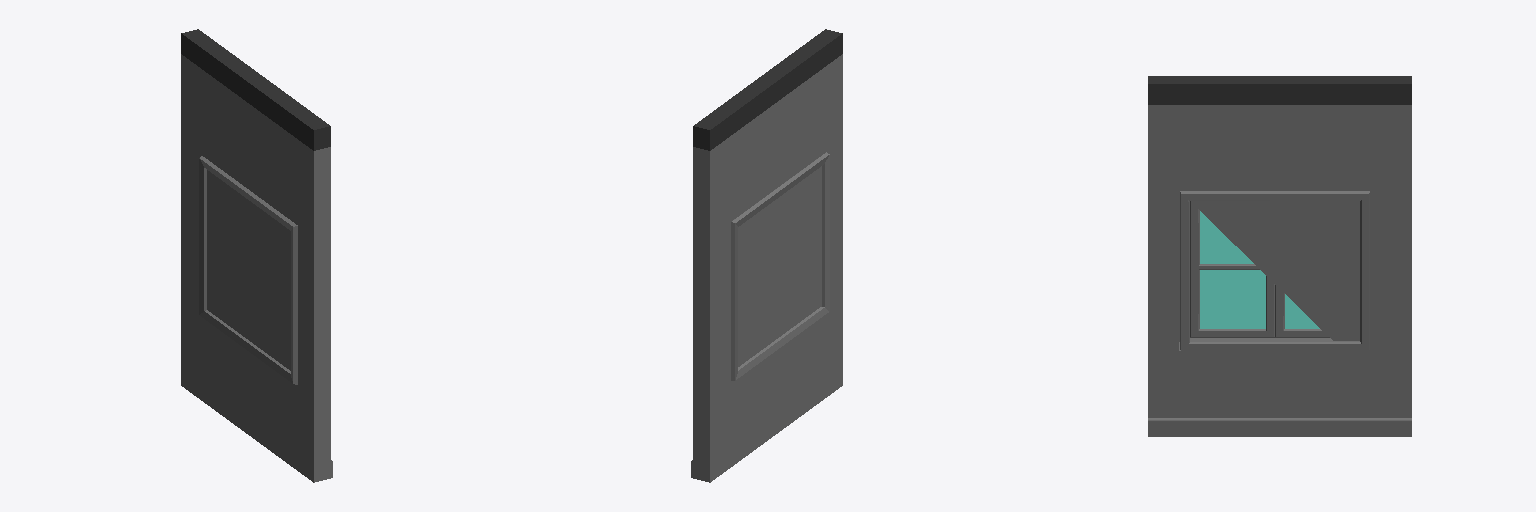
Rendered from uv_Modular_Wall_Window_2m.obj.
The picture shows the model from 3 angles: view 1: azimuth 30°, elevation 25°; view 2: azimuth 150°, elevation 25°; view 3: azimuth 270°, elevation 25°; orthographic projection.
Parts seen in each view (by area): view 1: pCube1105, pCube1105 pCube945; view 2: pCube1105, pCube1105 pCube945; view 3: pCube1105, pCube1105 pCube945, pCube1105 pCube943 pCube940, pCube1105 pCube943, pCube1105 pCube943 pCube939, pCube1105 pCube942, pCube1105 pCube942 pCube940.
Boxes of the visible parts, box(x1,y1,x2,y2) form: pCube1105: box(181, 29, 332, 482); pCube1105 pCube945: box(199, 156, 297, 384); pCube1105: box(691, 29, 842, 482); pCube1105 pCube945: box(731, 152, 829, 380); pCube1105: box(1148, 76, 1411, 436); pCube1105 pCube945: box(1180, 191, 1369, 350); pCube1105 pCube943 pCube940: box(1200, 270, 1265, 328); pCube1105 pCube943: box(1190, 201, 1274, 337); pCube1105 pCube943 pCube939: box(1200, 211, 1253, 263); pCube1105 pCube942: box(1275, 285, 1329, 337); pCube1105 pCube942 pCube940: box(1285, 294, 1319, 328).
Bounding box in the file's own units: 21.12 × 294 × 200.